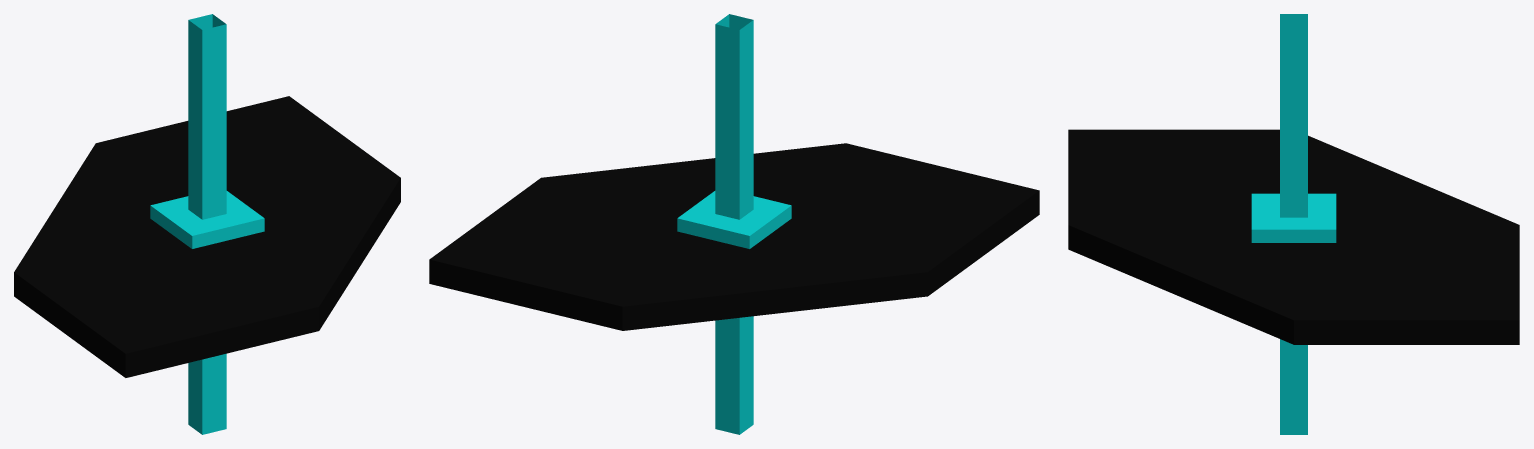
Rendered from BigStrut_P_E_E_E_P_E_E_E_None1.fbx.
3 renders of one model, left to right at view 1: azimuth 30°, elevation 25°; view 2: azimuth 150°, elevation 25°; view 3: azimuth 270°, elevation 25°, orthographic.
Parts seen in each view (by area): view 1: BigStrut_P_E_E_E_P_E_E_E_None1; view 2: BigStrut_P_E_E_E_P_E_E_E_None1; view 3: BigStrut_P_E_E_E_P_E_E_E_None1.
Part boxes in pixels (<box>): BigStrut_P_E_E_E_P_E_E_E_None1: <box>14,14,400,434</box>; BigStrut_P_E_E_E_P_E_E_E_None1: <box>429,14,1039,434</box>; BigStrut_P_E_E_E_P_E_E_E_None1: <box>1068,14,1519,434</box>.
Bounding box in the file's own units: 100 × 100 × 100.
